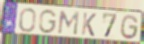7: (102, 12, 119, 39)
G: (120, 14, 140, 41), (38, 9, 58, 35)
K: (80, 12, 97, 38)
M: (57, 10, 81, 37)
O: (18, 8, 38, 34)
